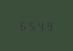five: (27, 19, 35, 30)
four: (36, 20, 44, 31)
nine: (45, 20, 53, 31)
six: (18, 19, 26, 30)
